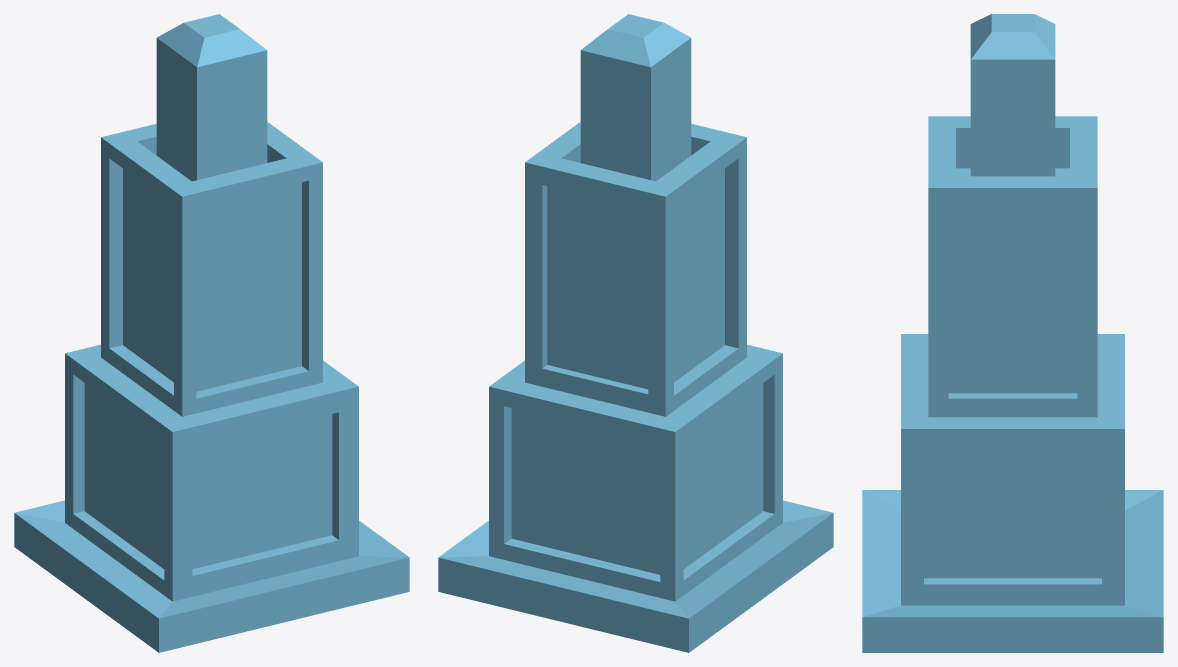
The model's file is TestAssetglb.glb.
3 renders of one model, left to right at view 1: azimuth 30°, elevation 25°; view 2: azimuth 150°, elevation 25°; view 3: azimuth 270°, elevation 25°, orthographic. The views are drawn at different scales.
Visible parts, largest first — view 1: Cube; view 2: Cube; view 3: Cube.
Part boxes in pixels (x1=…): Cube: x1=14, y1=14, x2=409, y2=652; Cube: x1=438, y1=14, x2=833, y2=652; Cube: x1=862, y1=14, x2=1163, y2=652.
Bounding box in the file's own units: 0.269 × 0.5573 × 0.269.
